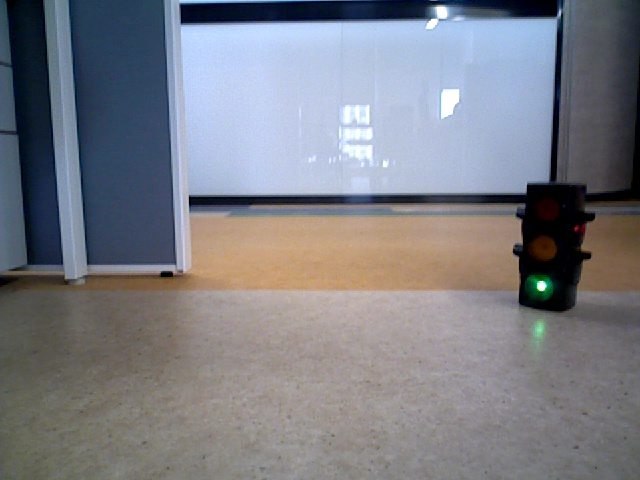green: (528, 181, 571, 304)
